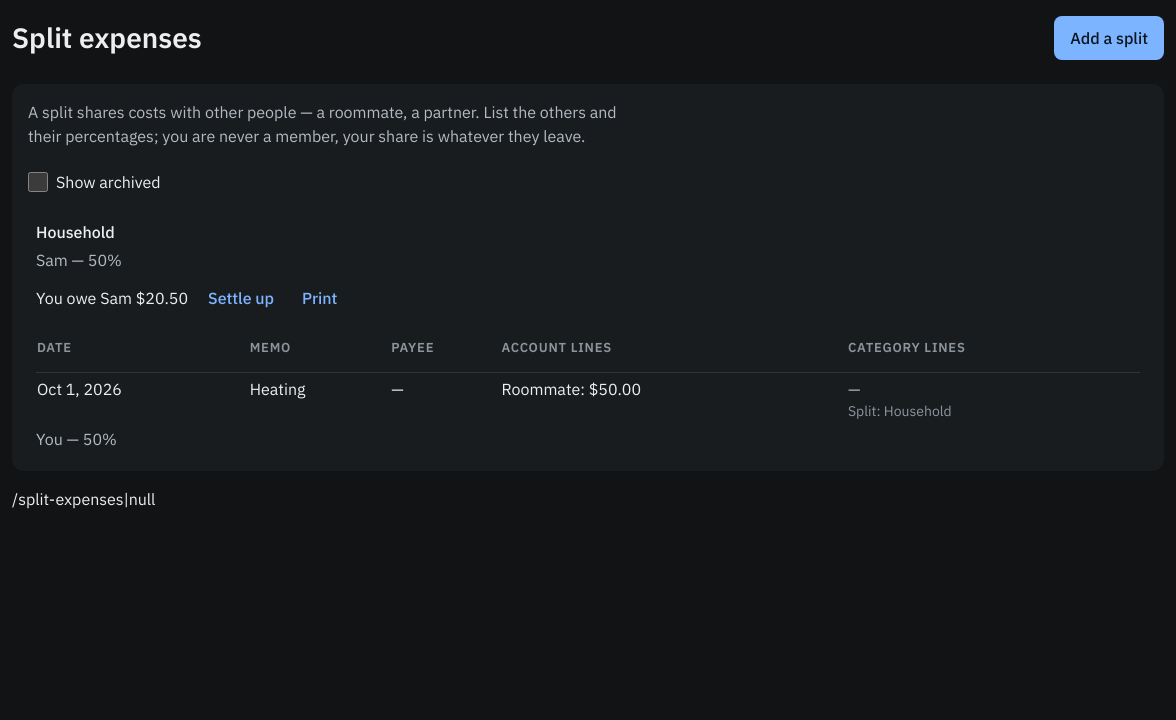
the Split expenses page › Settle up when I owe them puts the money onto their account
Click the button "Settle up": [241, 298] box [200,276,282,320]
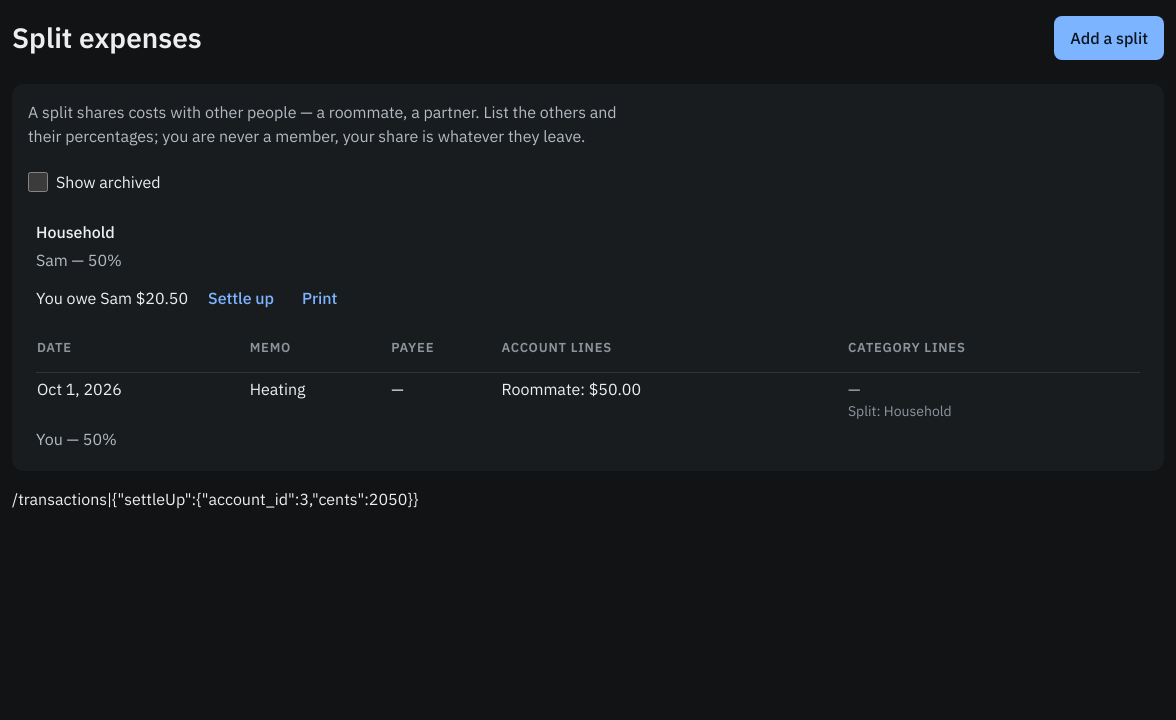
Expected: the text with test id "where" reads "/transactions|{\"settleUp\":{\"account_id\":3,\"cents\":2050}}", [12,488,107,508]
